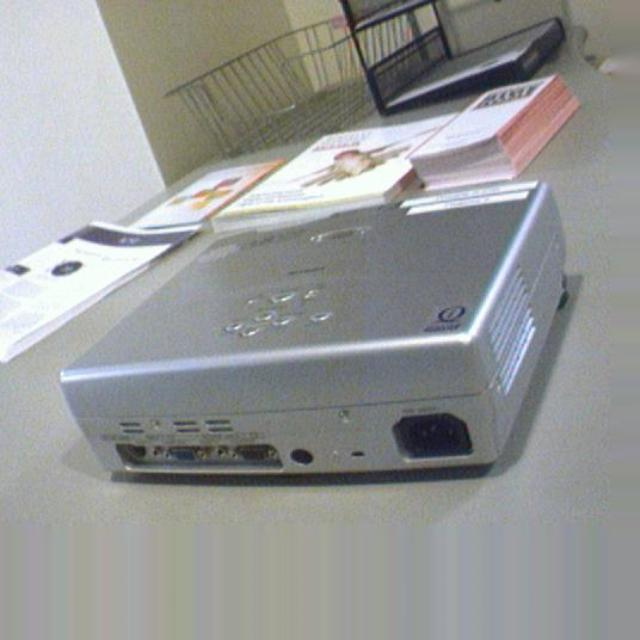Projector: (60, 182, 590, 492)
